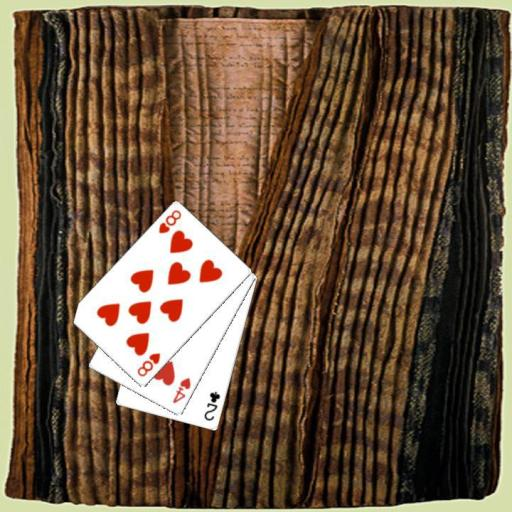2C: (201, 389, 222, 423)
4H: (169, 375, 192, 405)
8H: (134, 350, 162, 378), (155, 207, 183, 235)
